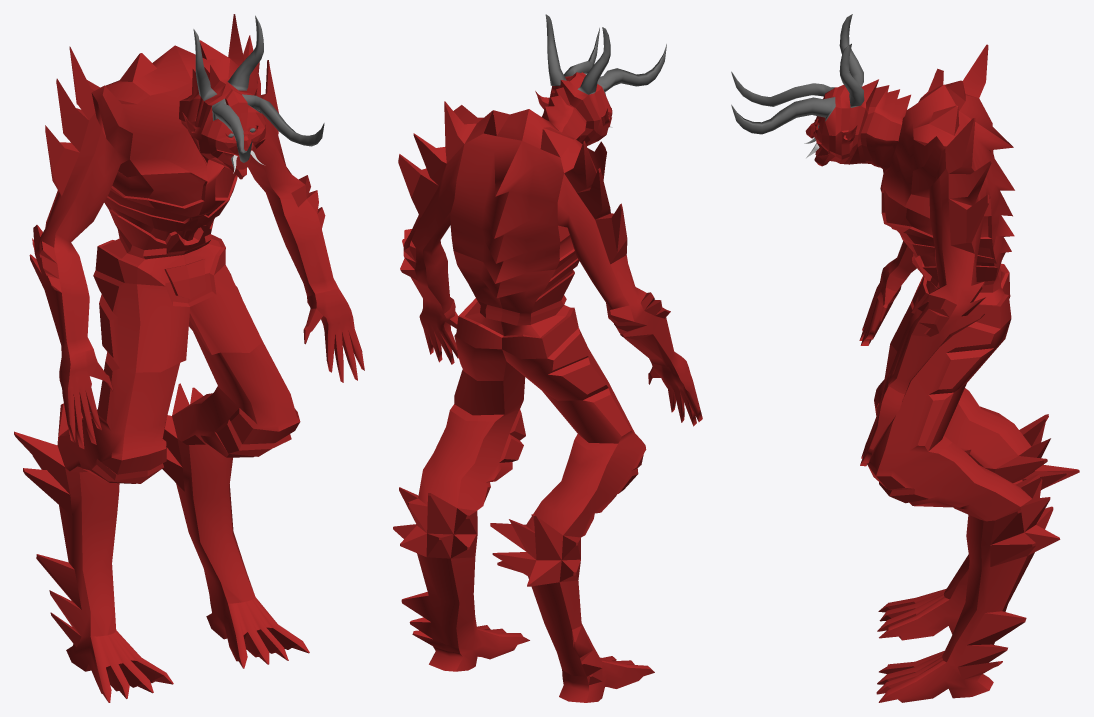
File: Baked_demon_model.fbx
The picture shows the model from 3 angles, left to right: view 1: azimuth 30°, elevation 25°; view 2: azimuth 150°, elevation 25°; view 3: azimuth 270°, elevation 25°; orthographic projection. The views are drawn at different scales.
Parts seen in each view (by area): view 1: group_Demon:polySurface2; view 2: group_Demon:polySurface2; view 3: group_Demon:polySurface2.
Boxes of the visible parts, x1=… form: group_Demon:polySurface2: x1=14, y1=14, x2=364, y2=702; group_Demon:polySurface2: x1=393, y1=14, x2=702, y2=702; group_Demon:polySurface2: x1=731, y1=14, x2=1079, y2=702.
Size of what is drawn, in the model's own units: 16.09 by 34.99 by 17.47.
